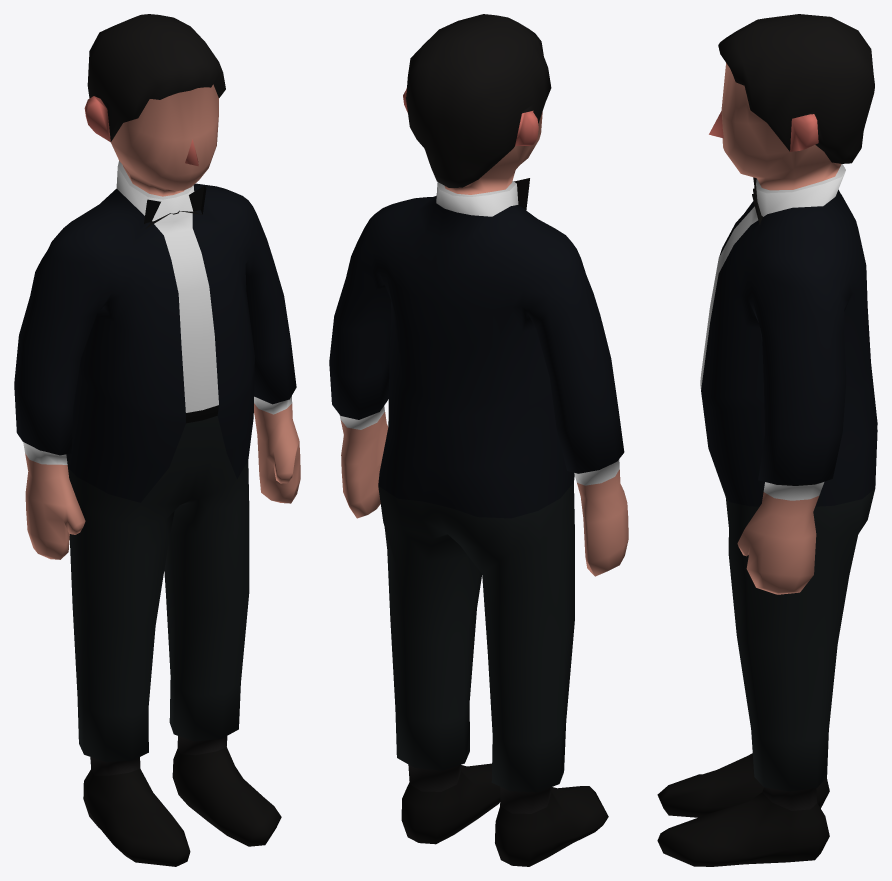
File: CHAR_Conductor.fbx
3 renders of one model, left to right at view 1: azimuth 30°, elevation 25°; view 2: azimuth 150°, elevation 25°; view 3: azimuth 270°, elevation 25°, orthographic. The views are drawn at different scales.
Parts seen in each view (by area): view 1: Character_Conductor; view 2: Character_Conductor; view 3: Character_Conductor.
Part boxes in pixels (x1=…): Character_Conductor: x1=14, y1=14, x2=300, y2=866; Character_Conductor: x1=329, y1=14, x2=628, y2=866; Character_Conductor: x1=657, y1=14, x2=877, y2=866.
Bounding box in the file's own units: 0.6566 × 1.84 × 0.4533.
